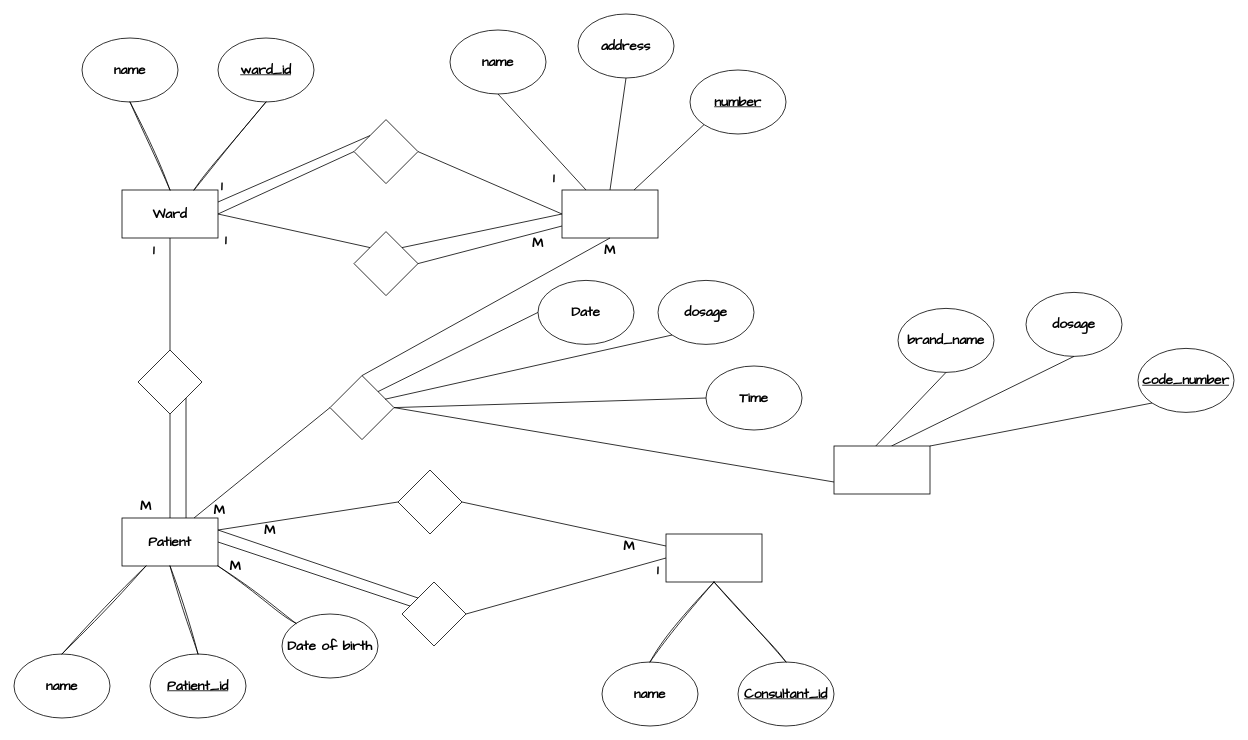
Image size: 1248x740. Some labels were removed from this diagram. The centre of each missing label's shape, as x and y in pixels:
"assigned" belongs at (433,613).
"Consultant" belongs at (713,557).
"Drug" belongs at (881,469).
"Examine" belongs at (429,501).
"gives" belongs at (361,407).
"host" belongs at (169,381).
"Nurse" belongs at (609,213).
"Serve" belongs at (385,263).
"Supervise" belongs at (385,151).
